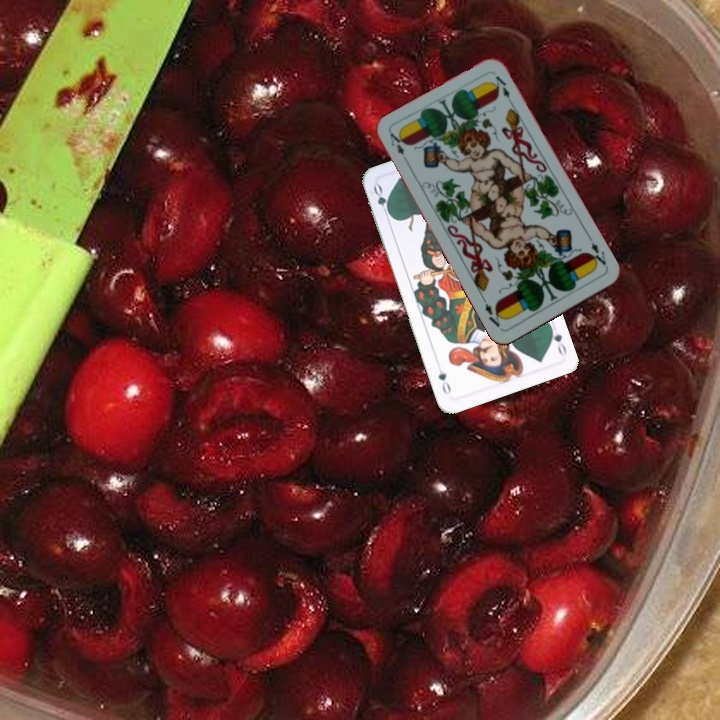EA: (585, 238, 610, 270), (386, 129, 407, 157)
GO: (369, 180, 394, 220), (545, 319, 569, 358)
